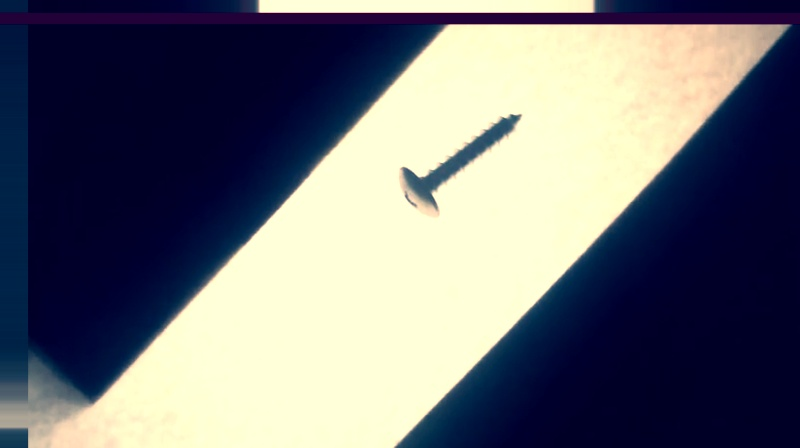S003: (394, 112, 528, 223)
